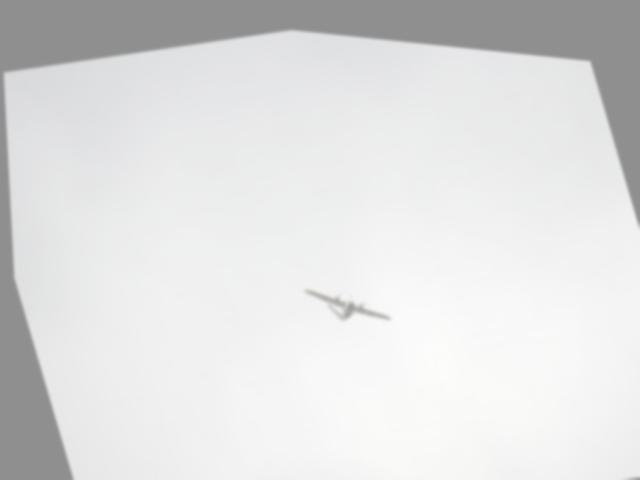uav: (287, 243, 402, 347)
